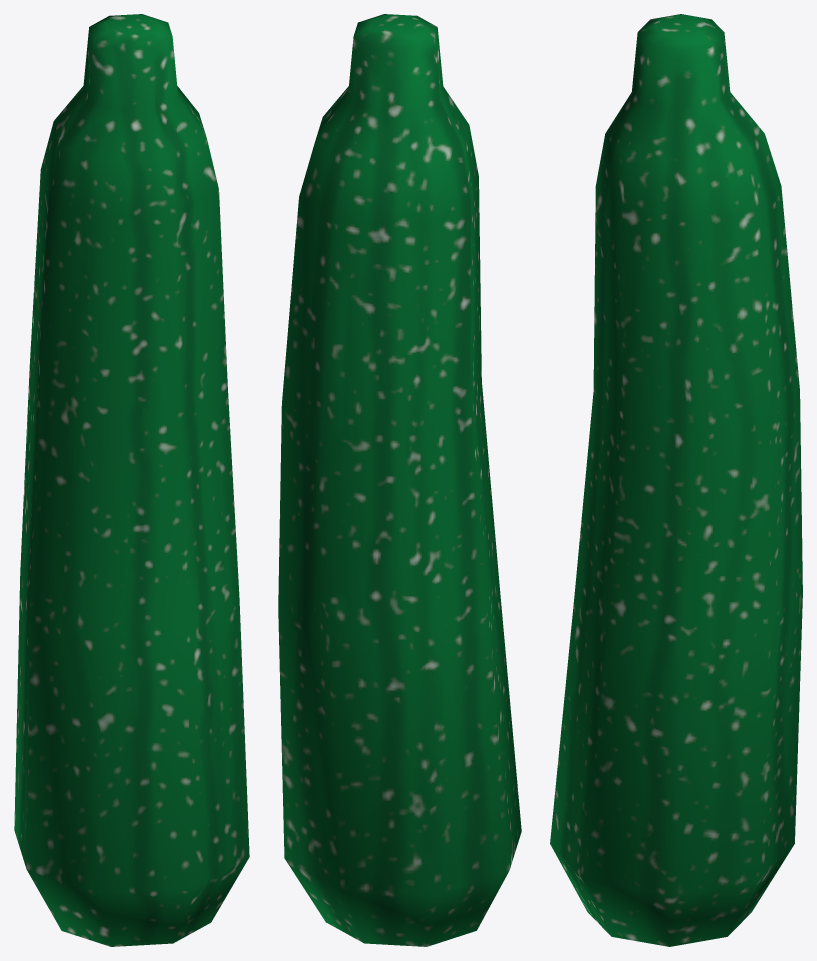
Rendered from Zucchina.fbx.
The picture shows the model from 3 angles, left to right: view 1: azimuth 30°, elevation 25°; view 2: azimuth 150°, elevation 25°; view 3: azimuth 270°, elevation 25°; orthographic projection.
Visible parts, largest first — view 1: Cylinder; view 2: Cylinder; view 3: Cylinder.
Part boxes in pixels (<box>): Cylinder: <box>14,14,249,946</box>; Cylinder: <box>278,14,521,946</box>; Cylinder: <box>550,14,802,946</box>.
Bounding box in the file's own units: 213 × 881 × 220.
